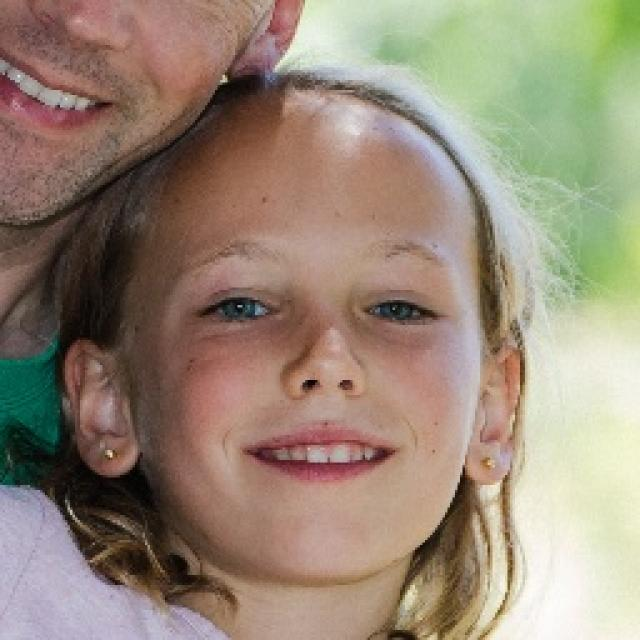earlobe: (82, 439, 139, 480), (462, 445, 514, 485), (226, 54, 270, 81)
eye: (202, 297, 278, 322), (367, 299, 438, 324)
nose: (16, 9, 112, 80), (288, 383, 362, 420)
wholeear: (64, 339, 142, 481), (462, 340, 524, 483), (228, 0, 310, 80)
